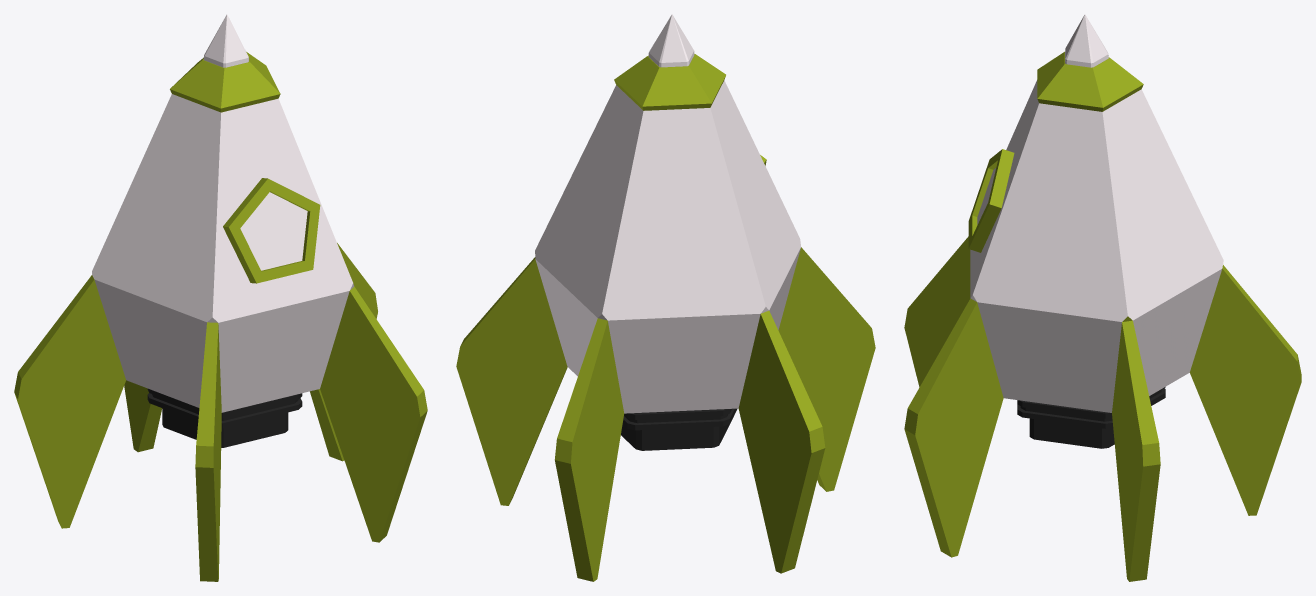
Rendered from Rocket.fbx.
3 renders of one model, left to right at view 1: azimuth 30°, elevation 25°; view 2: azimuth 150°, elevation 25°; view 3: azimuth 270°, elevation 25°, orthographic.
Parts seen in each view (by area): view 1: Rocket_Fuselage, Rocket_Fins, Rocket_Window, Rocket_Thruster, Rocket_Nose; view 2: Rocket_Fuselage, Rocket_Fins, Rocket_Nose, Rocket_Thruster; view 3: Rocket_Fuselage, Rocket_Fins, Rocket_Nose, Rocket_Thruster, Rocket_Window.
Part boxes in pixels (box(x1,y1,x2,y2)): Rocket_Fuselage: box(92, 14, 354, 412); Rocket_Fins: box(14, 243, 427, 581); Rocket_Window: box(223, 178, 320, 283); Rocket_Thruster: box(147, 388, 302, 447); Rocket_Nose: box(170, 52, 280, 112); Rocket_Fuselage: box(535, 14, 800, 413); Rocket_Fins: box(456, 247, 875, 581); Rocket_Nose: box(614, 54, 725, 110); Rocket_Thruster: box(621, 408, 737, 450); Rocket_Fuselage: box(970, 14, 1223, 412); Rocket_Fins: box(904, 236, 1301, 581); Rocket_Nose: box(1037, 51, 1143, 111); Rocket_Thruster: box(1017, 387, 1165, 448); Rocket_Window: box(968, 149, 1014, 252).
Size of the model in its own units: 364 by 479 by 346.
